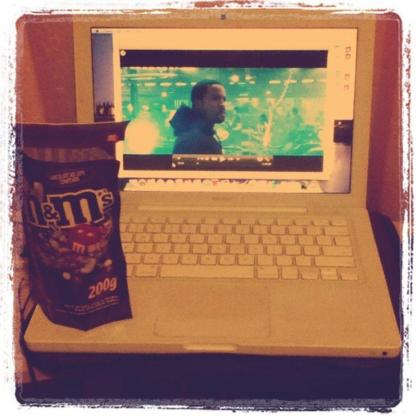board: (61, 1, 404, 393)
